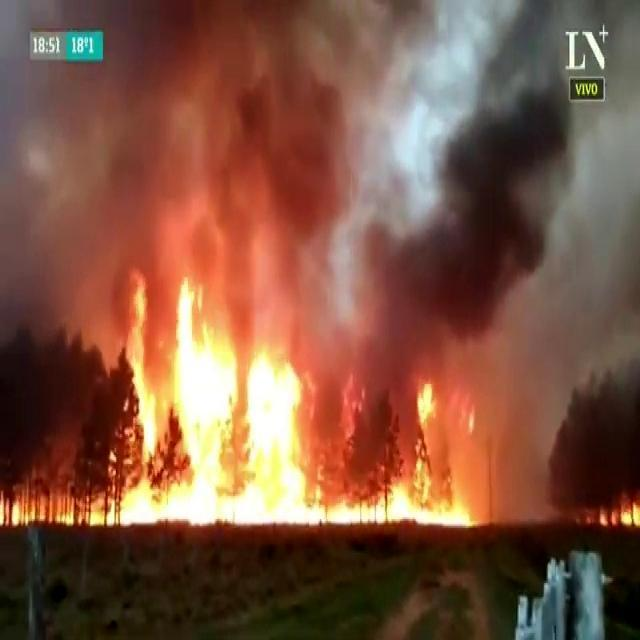Fire: (44, 278, 314, 528), (334, 372, 464, 532)
Smoke: (347, 0, 640, 404), (0, 0, 368, 294)
